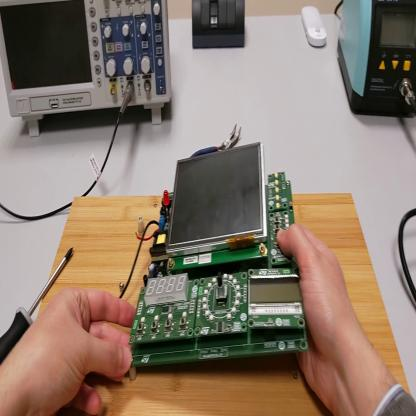hand: (1, 283, 137, 415), (276, 218, 359, 413)
low voltage board: (120, 139, 310, 365)
oscilloscope: (1, 1, 173, 139)
screwdriver-: (2, 245, 76, 364)
welder station: (339, 2, 416, 119)
working area: (41, 194, 413, 416)
